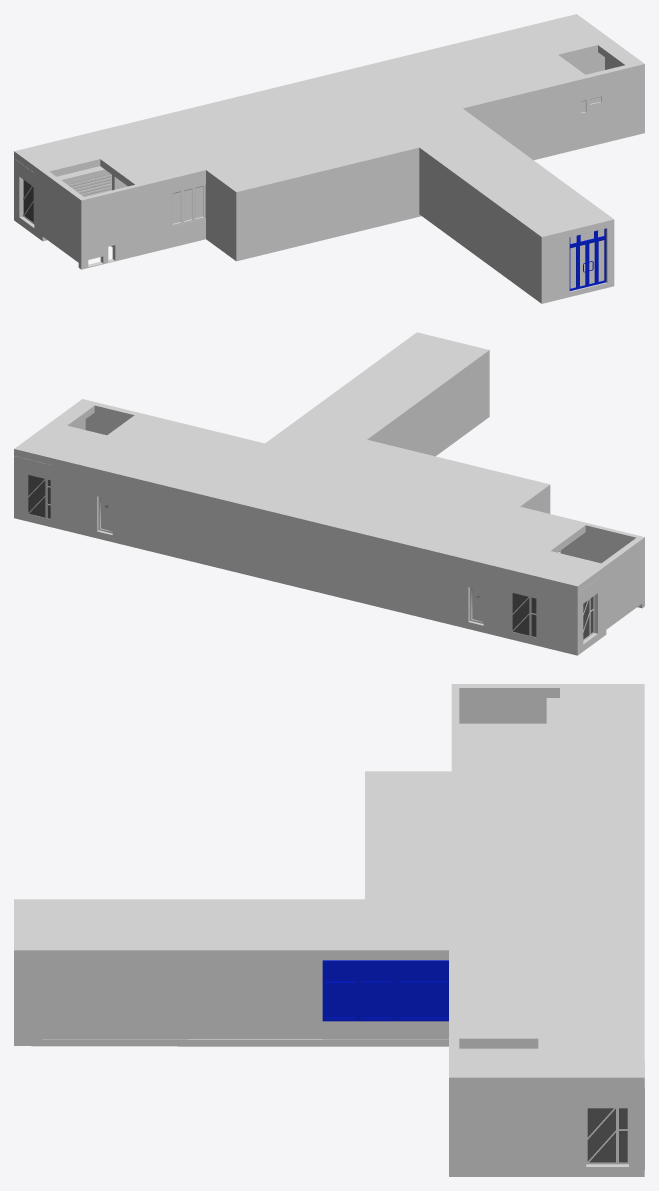
The model's file is Floor_3.fbx.
3 renders of one model, top to bottom at view 1: azimuth 30°, elevation 25°; view 2: azimuth 150°, elevation 25°; view 3: azimuth 270°, elevation 25°, orthographic. The views are drawn at different scales.
Visible parts, largest first — view 1: Cube.003, стены наружа, Cube.045, стега вход в актовый, стены наружа.001, Cube.016, Cube.064, Cube.011, Cube.057, Cube.061, стеклышко.001, Cube.005 (+1 smaller); view 2: Cube.003, Cube.022, Cube.045, стены наружа, Cube.016, стега вход в актовый, Cube.085, Cube.021, стены наружа.001, Cube.009, Cube.037; view 3: Cube.003, Cube.045, Cube.046, Cube.016, стены наружа, окна наружа.001, пол над коридором актовый, Cube.085, Cube.021, стега вход в актовый.001, стега вход в актовый.
Part boxes in pixels (x1,y1,x2,y2): Cube.003: (14, 14, 642, 206); стены наружа: (206, 63, 644, 261); Cube.045: (396, 107, 614, 241); стега вход в актовый: (419, 146, 548, 303); стены наружа.001: (78, 170, 205, 269); Cube.016: (14, 57, 617, 263); Cube.064: (549, 234, 569, 297); Cube.011: (171, 184, 204, 225); Cube.057: (587, 237, 606, 286); Cube.061: (569, 242, 587, 290); стеклышко.001: (70, 174, 111, 196); Cube.005: (565, 52, 604, 74); Cube.003: (14, 400, 644, 593); Cube.022: (51, 465, 511, 633); Cube.045: (264, 332, 481, 458); стены наружа: (81, 399, 550, 513); Cube.016: (14, 419, 644, 650); стега вход в актовый: (360, 348, 489, 456); Cube.085: (14, 513, 644, 655); Cube.021: (27, 473, 594, 640); стены наружа.001: (520, 506, 644, 608); Cube.009: (98, 497, 112, 533); Cube.037: (470, 587, 483, 623); Cube.003: (453, 684, 644, 1087); Cube.045: (14, 904, 452, 960); Cube.046: (14, 960, 314, 1038); Cube.016: (453, 698, 644, 1169); стены наружа: (365, 771, 453, 1176); окна наружа.001: (322, 960, 448, 1021); пол над коридором актовый: (14, 1039, 448, 1046); Cube.085: (453, 1048, 644, 1176); Cube.021: (586, 1108, 628, 1164); стега вход в актовый.001: (322, 1022, 448, 1039); стега вход в актовый: (14, 899, 364, 904).
Size of the model in its own units: 24044 by 2824 by 16282.
